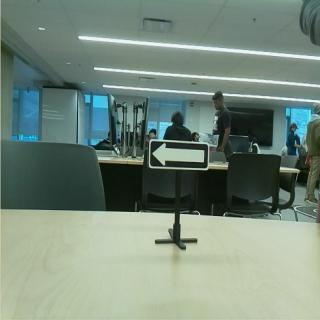sign_oneway_left: (149, 139, 212, 173)
